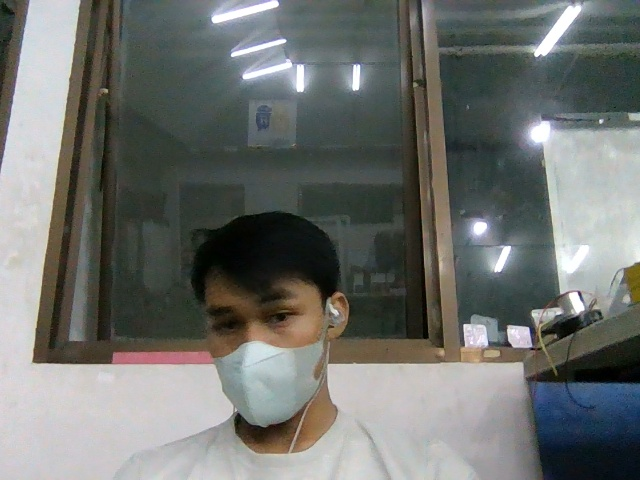mask_on: (210, 342, 325, 429)
